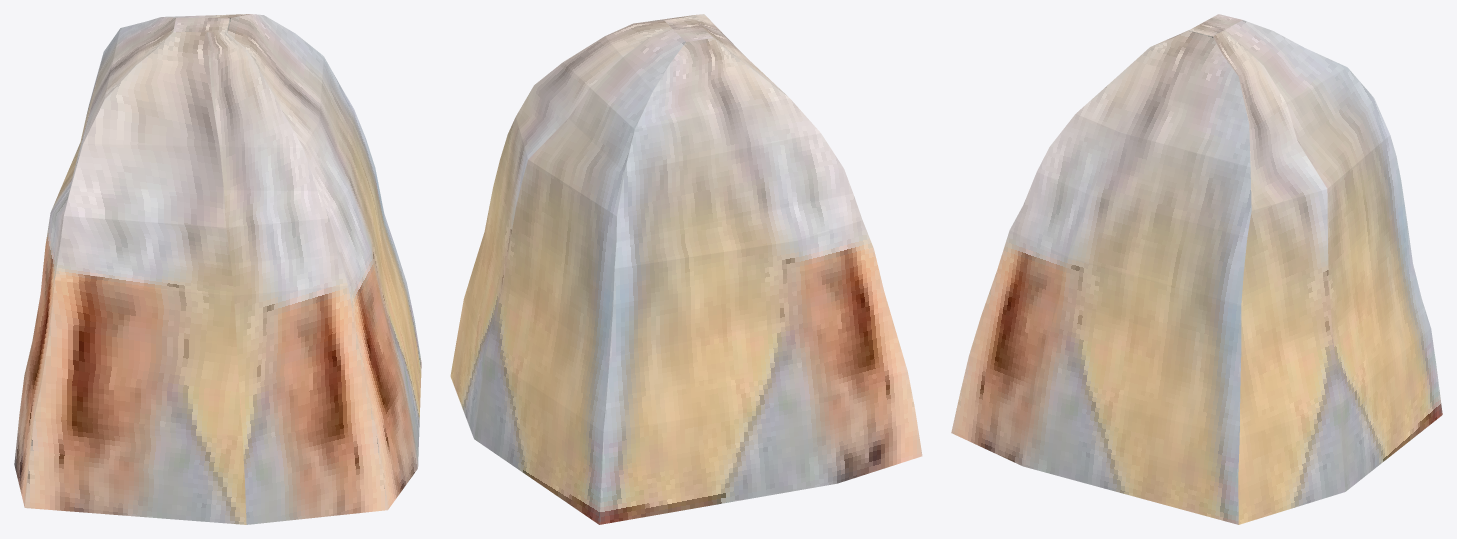
The picture shows the model from 3 angles, left to right: view 1: azimuth 30°, elevation 25°; view 2: azimuth 150°, elevation 25°; view 3: azimuth 270°, elevation 25°; orthographic projection. The views are drawn at different scales.
Parts seen in each view (by area): view 1: SPLICE_1.004; view 2: SPLICE_1.004; view 3: SPLICE_1.004.
Part boxes in pixels (box(x1,y1,x2,y2)): SPLICE_1.004: box(14, 14, 421, 524); SPLICE_1.004: box(450, 14, 922, 524); SPLICE_1.004: box(951, 14, 1442, 524).
Size of the model in its own units: 1.47 by 1.33 by 1.47.
1 material, 1 textured.
